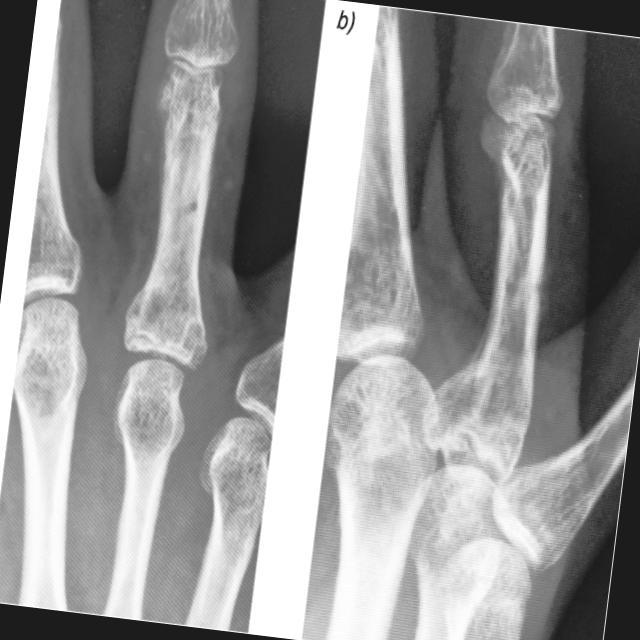Intra-articular fracture: (428, 410, 563, 597), (170, 82, 204, 231)
